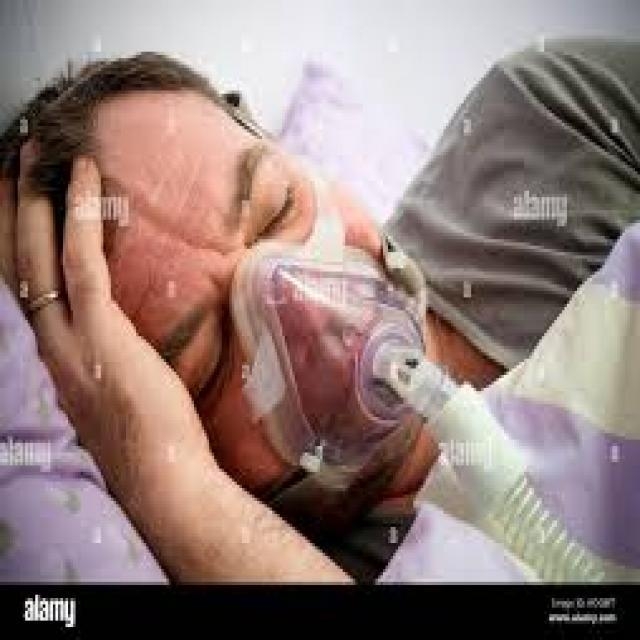oxygen_mask: (220, 246, 444, 492)
